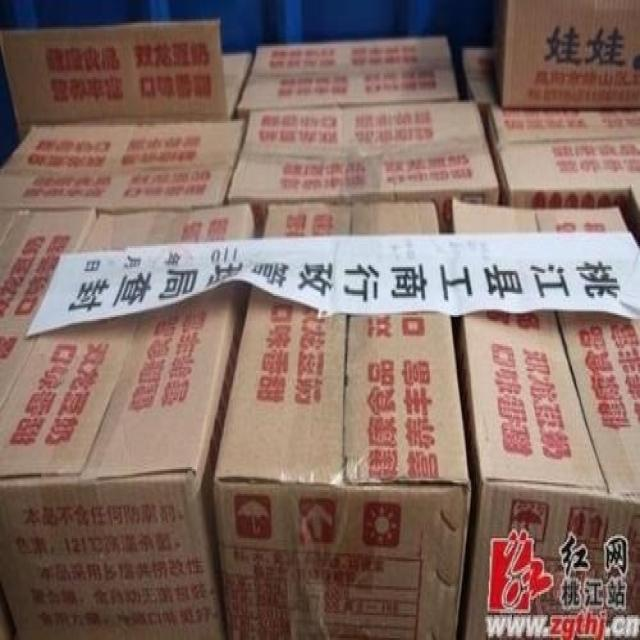box: (212, 200, 471, 640), (0, 202, 256, 640), (451, 202, 640, 640), (225, 100, 499, 238), (0, 19, 253, 142), (0, 119, 244, 209), (0, 209, 97, 411), (236, 37, 458, 119), (490, 0, 640, 110), (486, 106, 640, 208)
